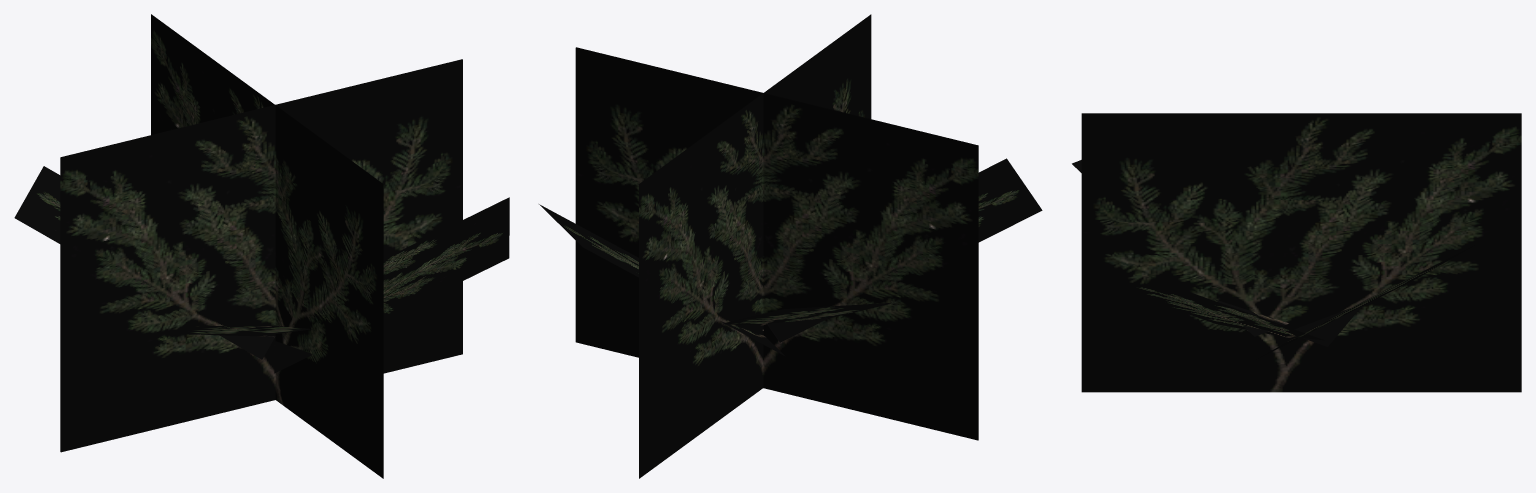
The model's file is mtns_shrb_evergreen_l2.fbx.
3 renders of one model, left to right at view 1: azimuth 30°, elevation 25°; view 2: azimuth 150°, elevation 25°; view 3: azimuth 270°, elevation 25°, orthographic. The views are drawn at different scales.
Visible parts, largest first — view 1: mesh_node; view 2: mesh_node; view 3: mesh_node.
Part boxes in pixels (bbox=[...]): mesh_node: bbox=[14, 14, 509, 478]; mesh_node: bbox=[539, 14, 1042, 478]; mesh_node: bbox=[1072, 113, 1521, 392].
Bounding box in the file's own units: 5.55 × 3.89 × 5.68.
